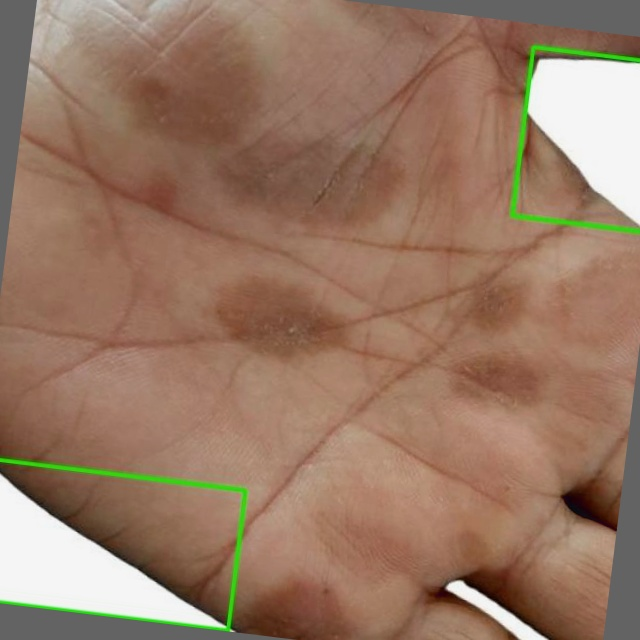Contact Dermatitis: (0, 460, 245, 630), (512, 46, 639, 231)
